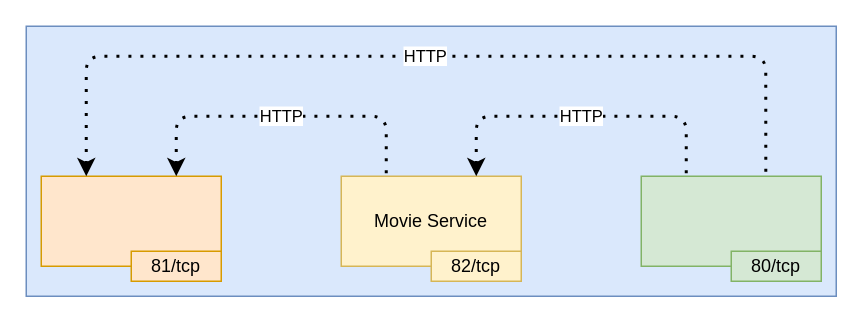
This 863x323 diagram has some shape labels left out. Each missing label, with the box of its shape:
Actor Service: (40, 175, 221, 266)
Swagger UI: (640, 175, 821, 266)
